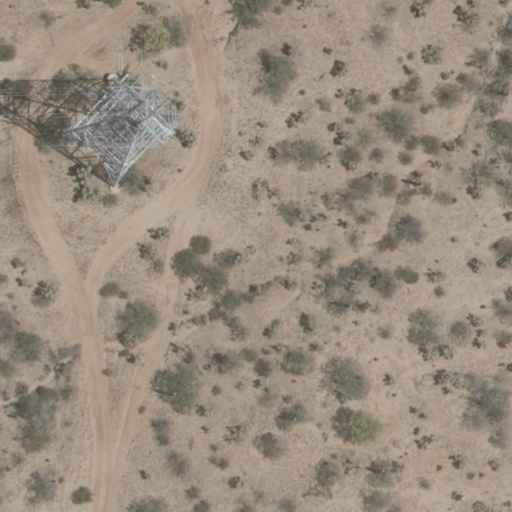TT: (48, 52, 194, 196)
